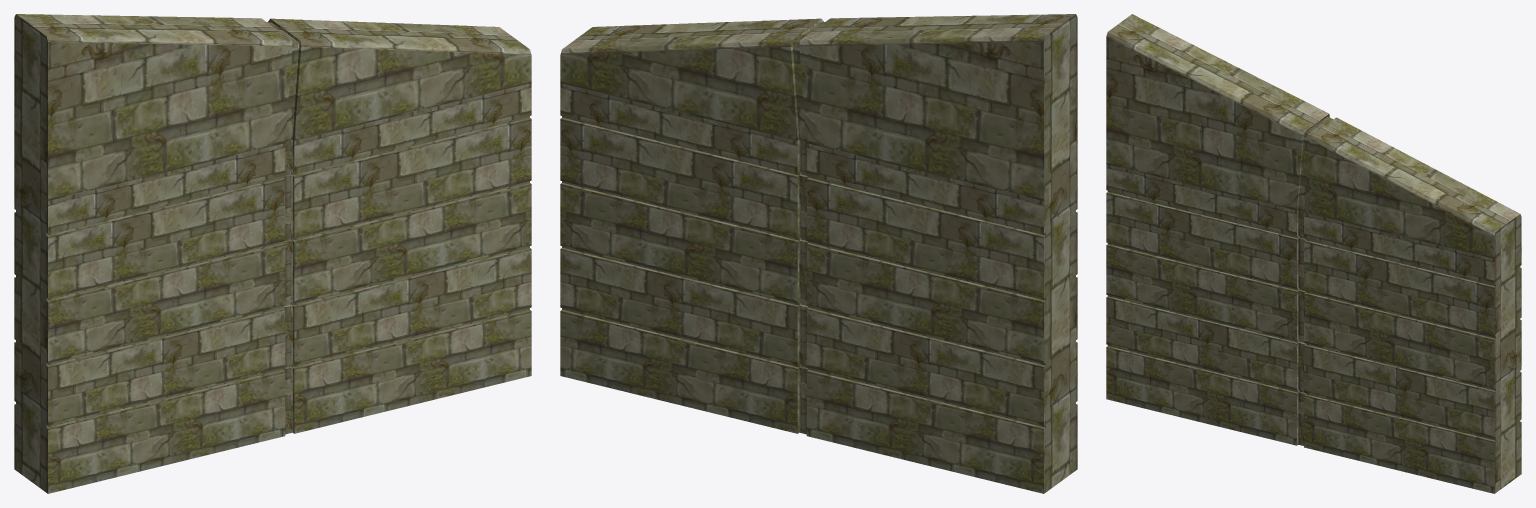
Rendered from wall-06.fbx.
The picture shows the model from 3 angles, left to right: view 1: azimuth 30°, elevation 25°; view 2: azimuth 150°, elevation 25°; view 3: azimuth 330°, elevation 25°; orthographic projection. The views are drawn at different scales.
Parts seen in each view (by area): view 1: Cube.171; view 2: Cube.171; view 3: Cube.171.
Boxes of the visible parts, x1,y1,x2,y2 form: Cube.171: (14, 14, 531, 493); Cube.171: (560, 14, 1077, 493); Cube.171: (1106, 14, 1521, 493).
Size of the model in its own units: 3.73 by 3.36 by 0.448.
